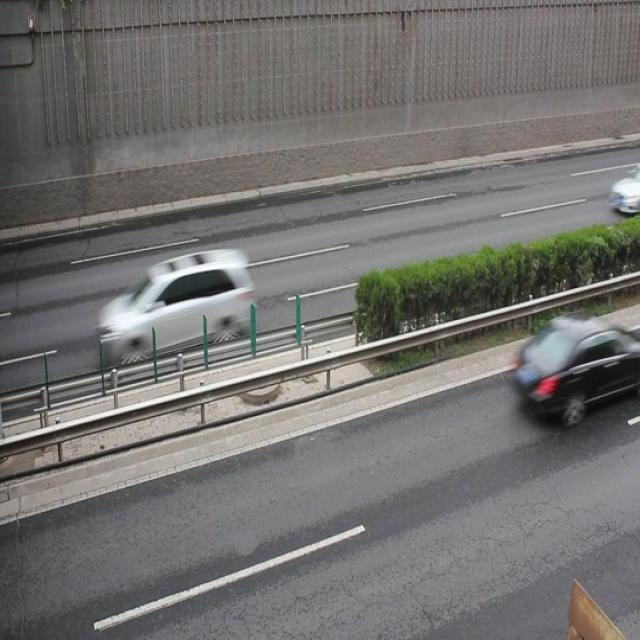car: (96, 251, 252, 368), (514, 314, 630, 424)
